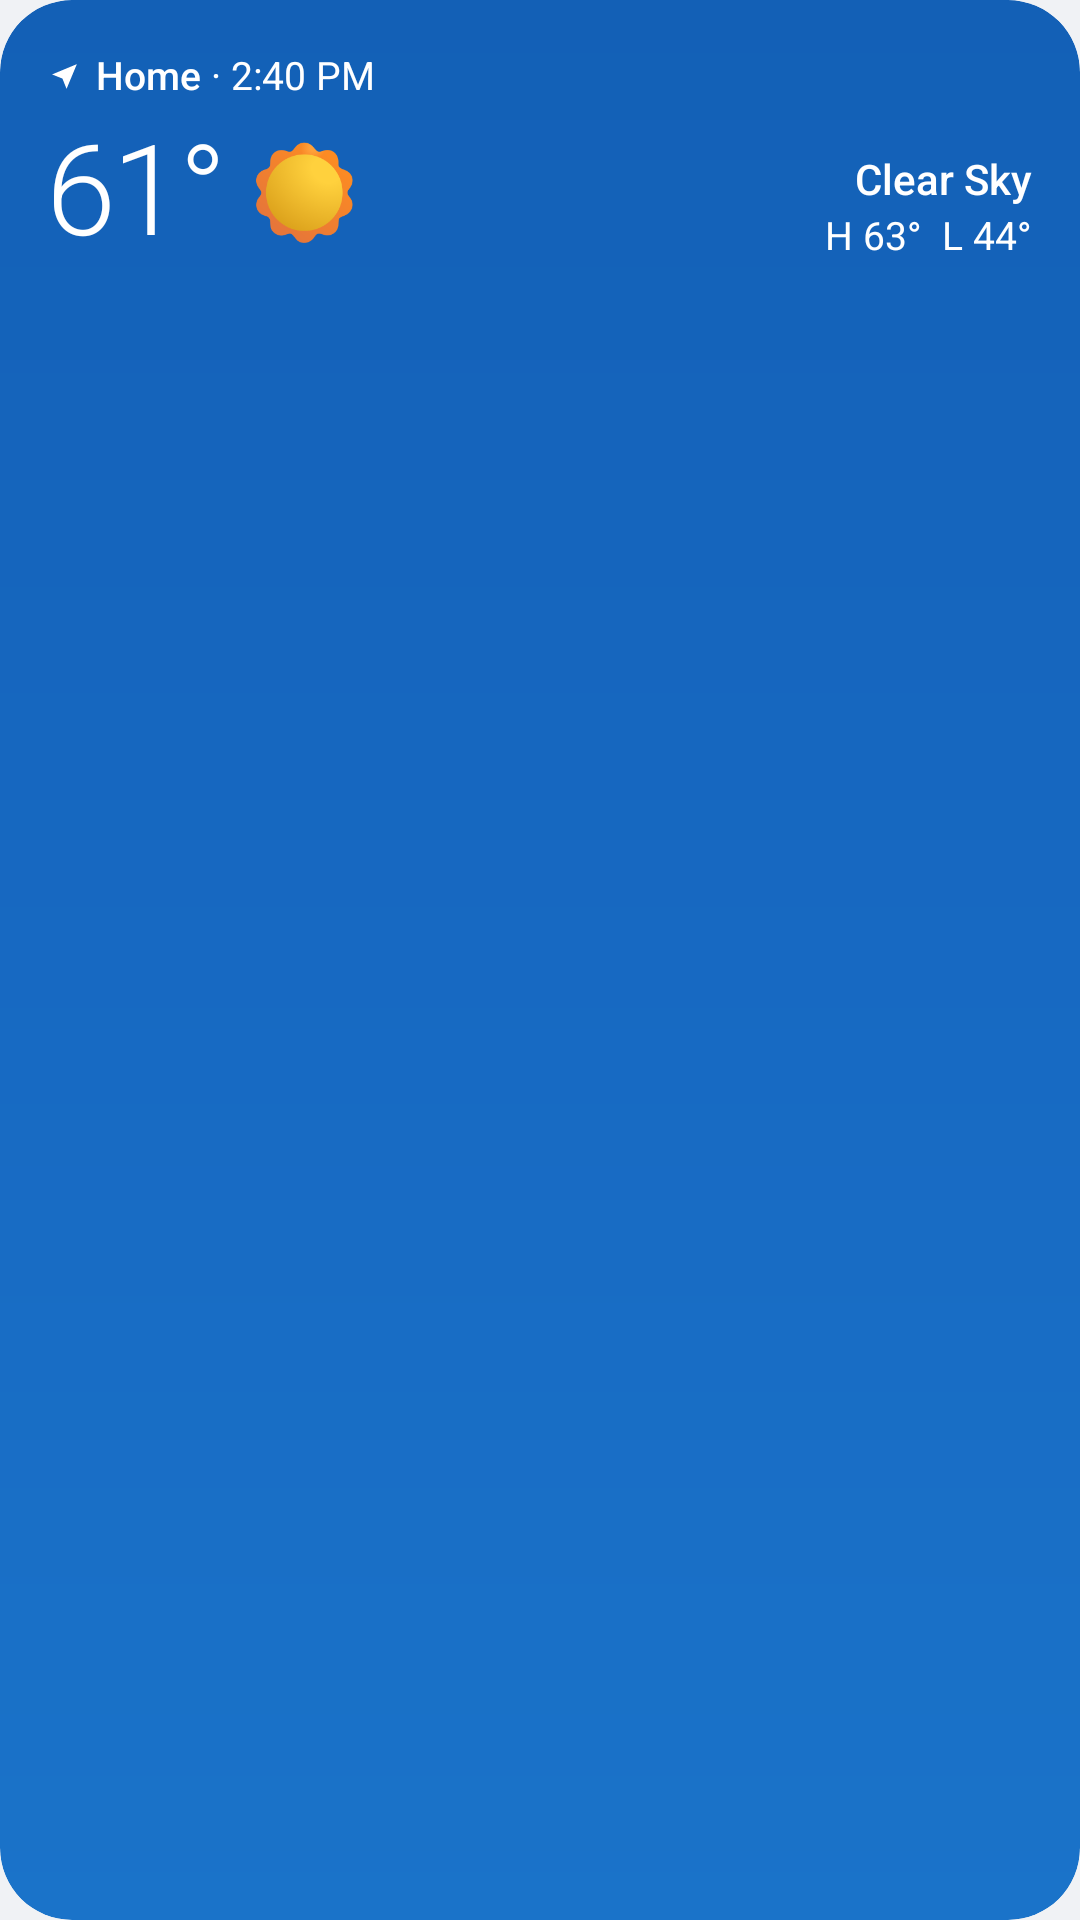

Where to tap for icons on this 1080*1920 app screen, as (x=x, y=y):
sun: (x=304, y=192)
